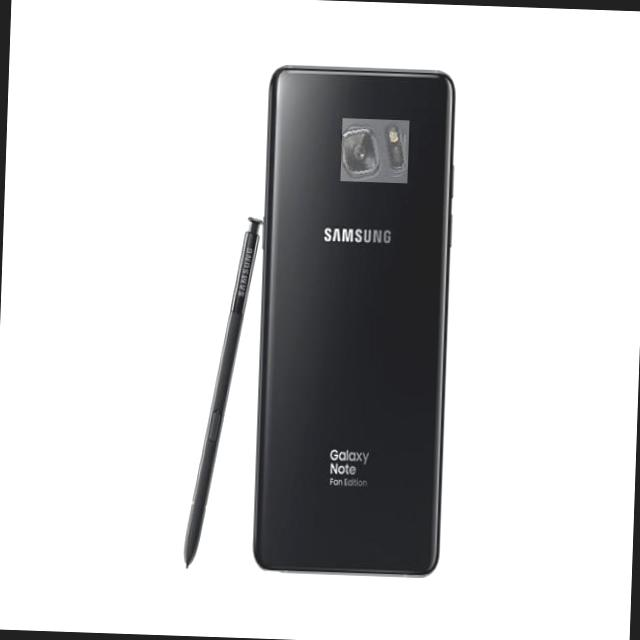lens_back: (340, 118, 409, 183)
phone: (247, 60, 460, 574)
